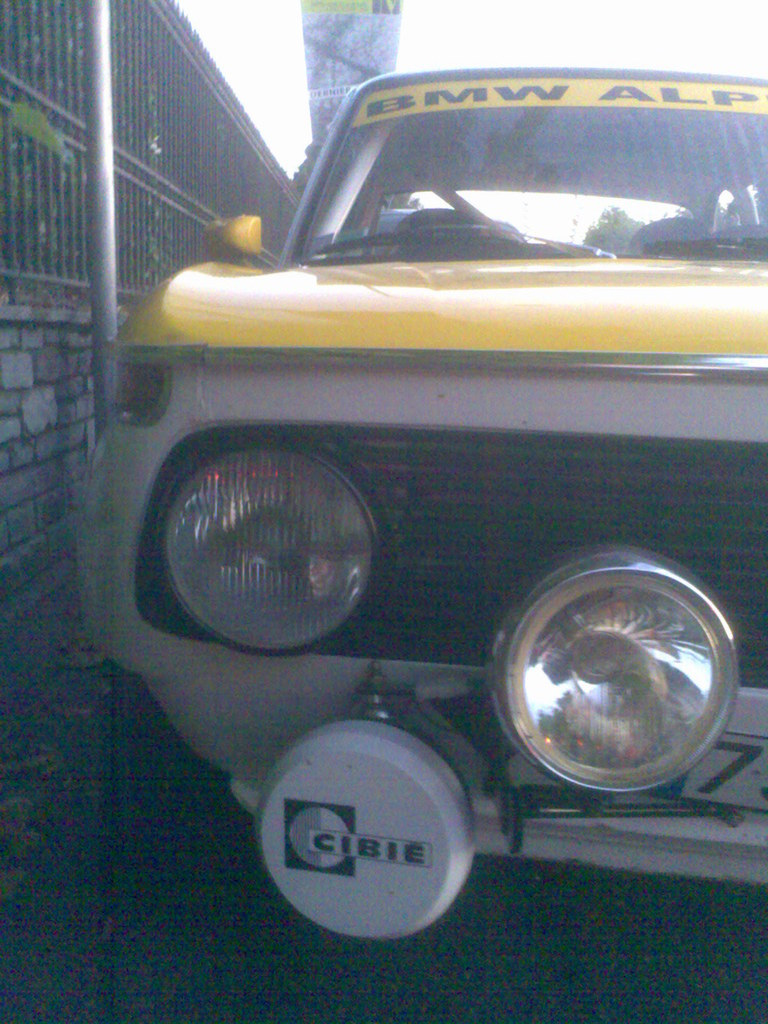Car: (0, 24, 768, 963)
